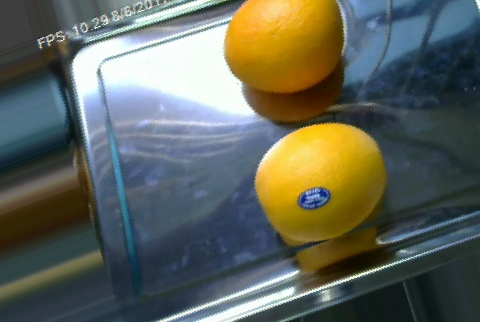Orange: (253, 122, 386, 242), (223, 1, 346, 94)
